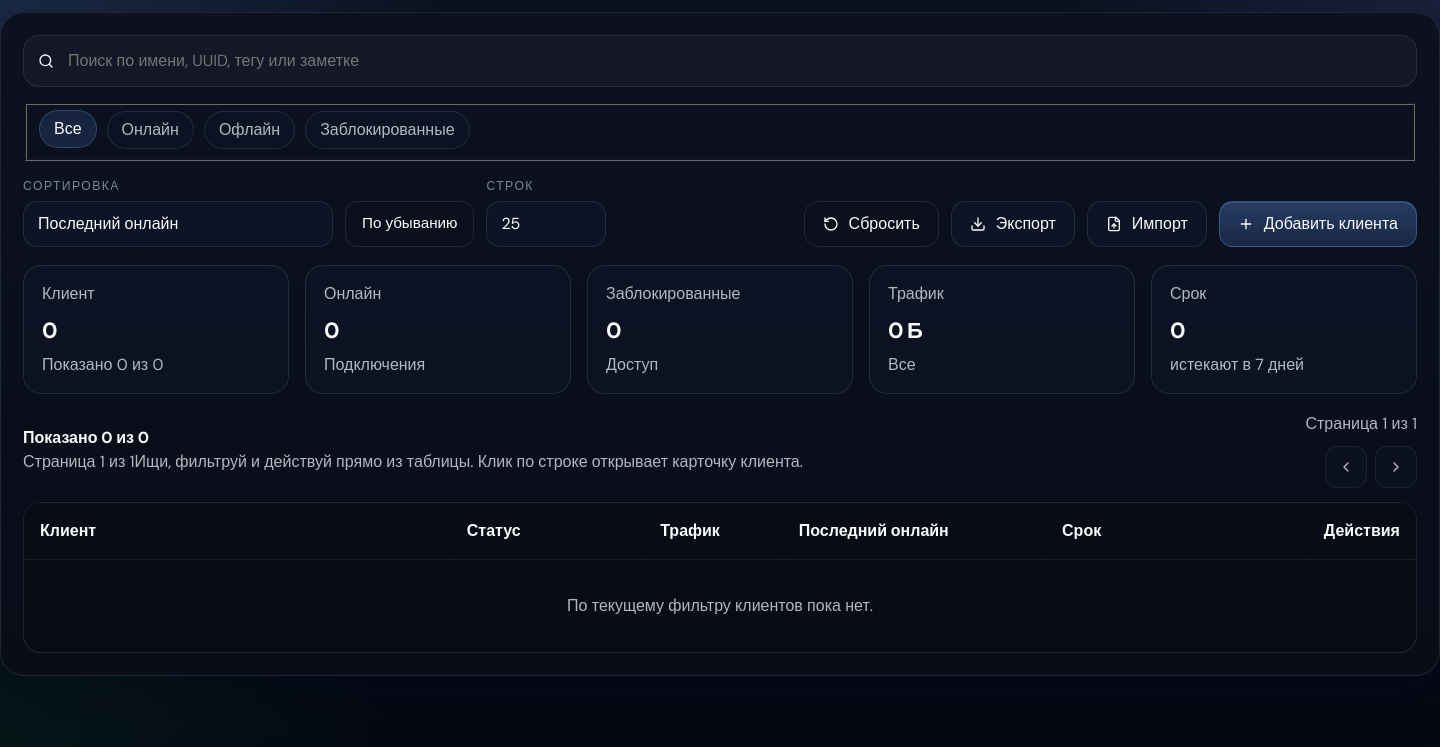
Test case: ClientsPage › sends device and IP limits when creating a client
This screenshot has width=1440, height=747.
Click the button "Добавить клиента" at (1318, 224), box left=1219, top=201, right=1417, bottom=247
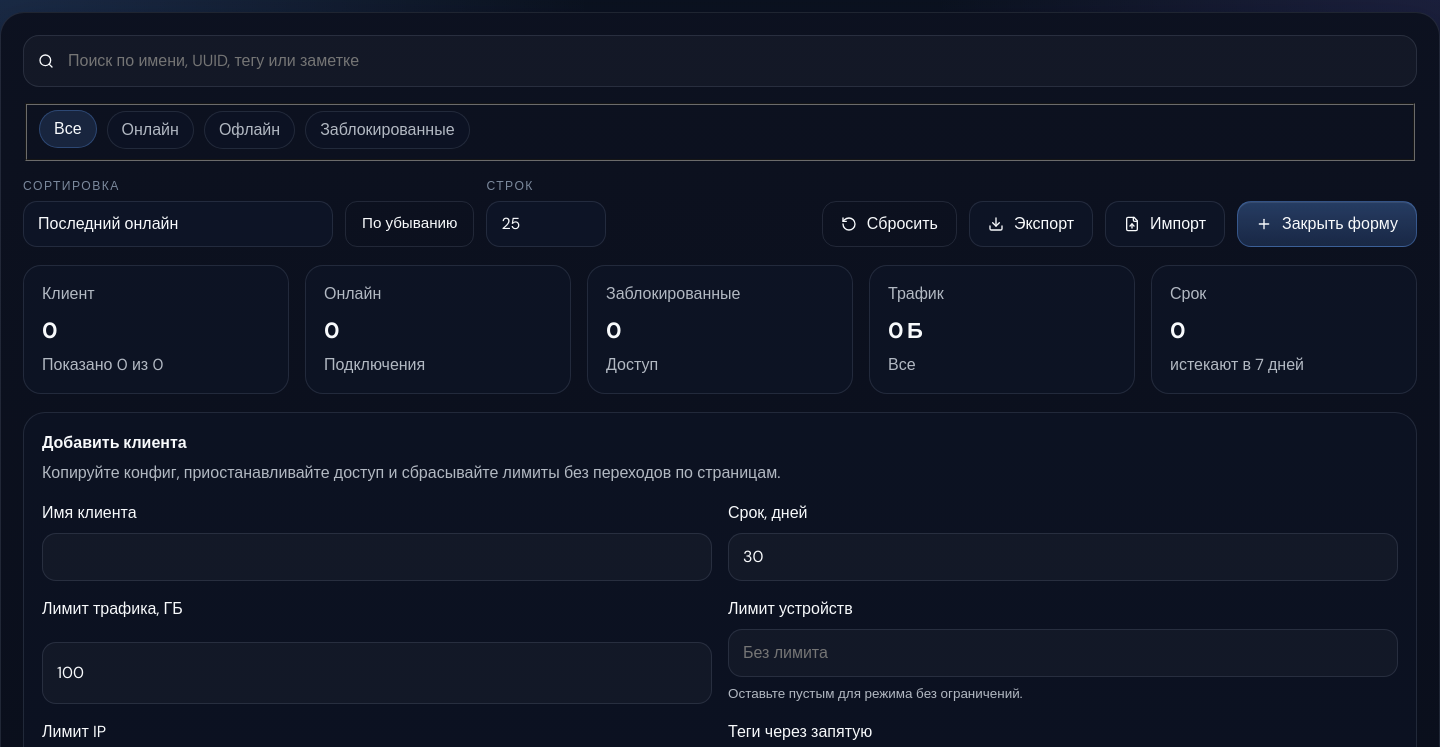
Type "Shared plan" into the field labelled "Имя клиента" at (377, 557), box left=42, top=533, right=712, bottom=581
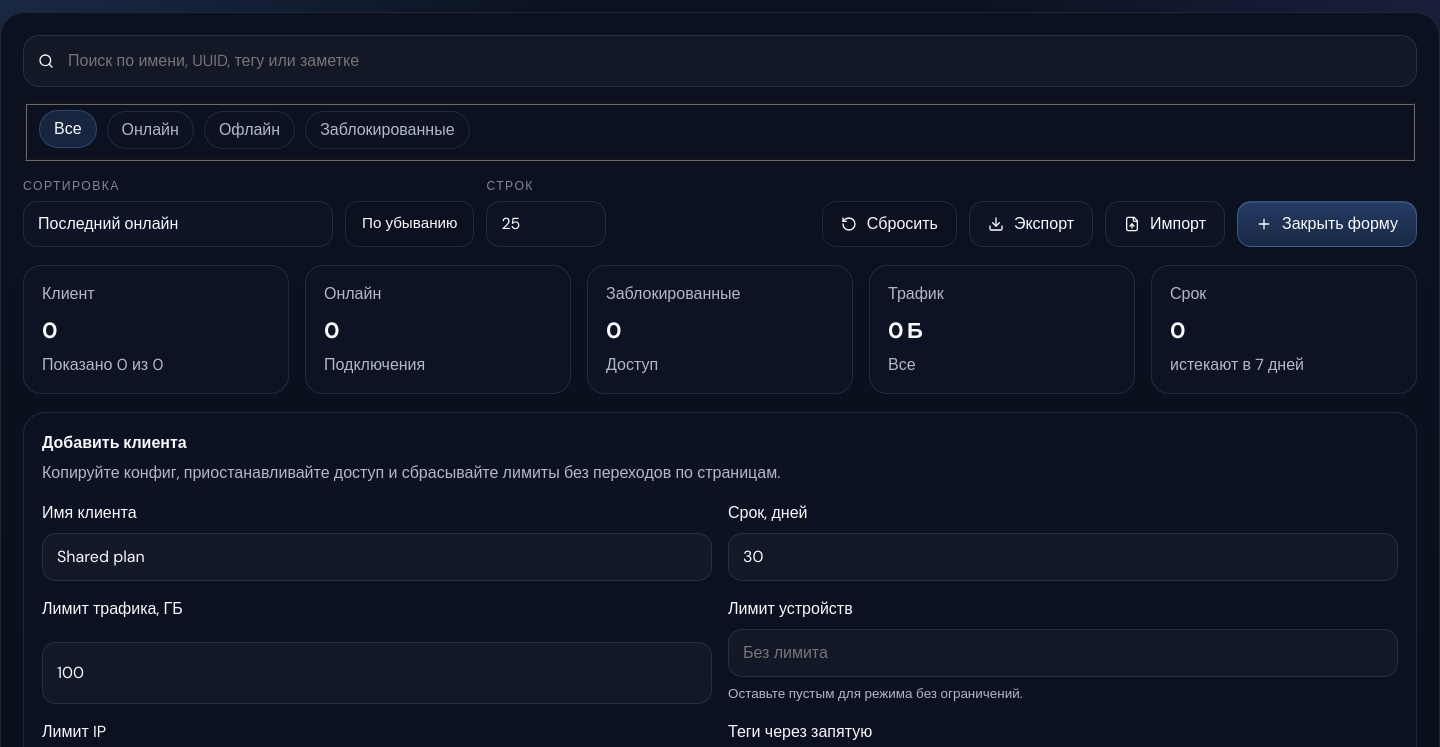
Type "3" into the number field labelled "Лимит устройств Оставьте пустым для режима без ограничений." at (1063, 653), box left=728, top=629, right=1398, bottom=677
(page scrolled)
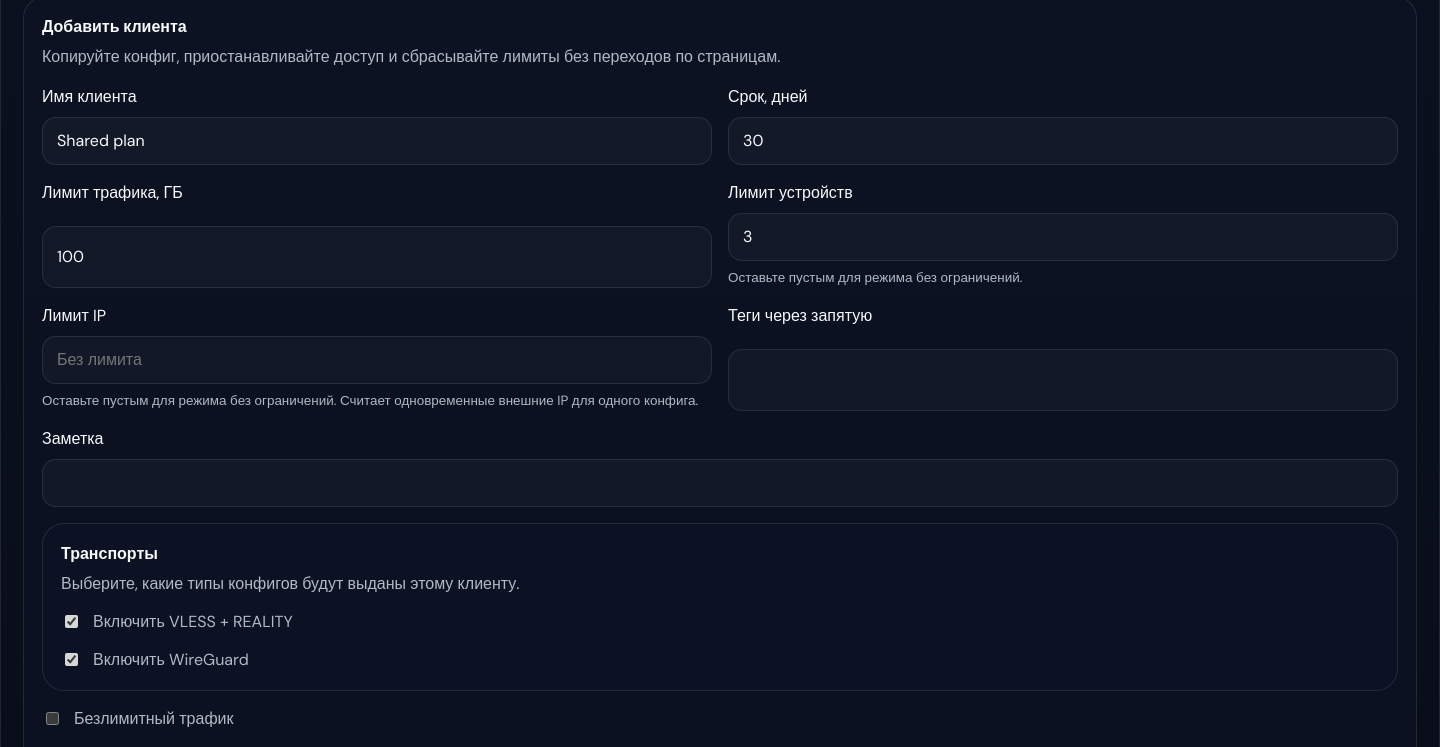
Type "2" into the 4th number field at (377, 360), box left=42, top=336, right=712, bottom=384
(page scrolled)
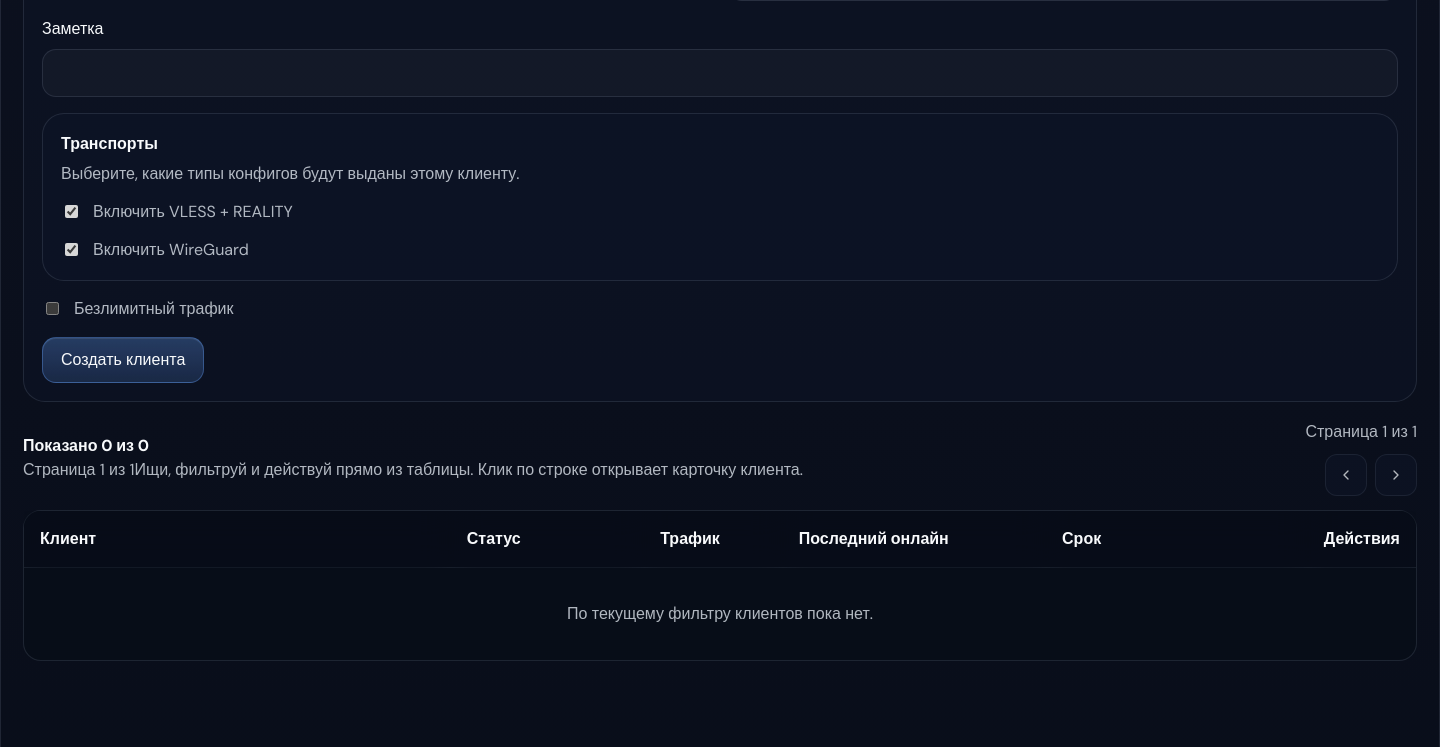
Click the button "Создать клиента" at (123, 360), box left=42, top=337, right=204, bottom=383
(page scrolled)
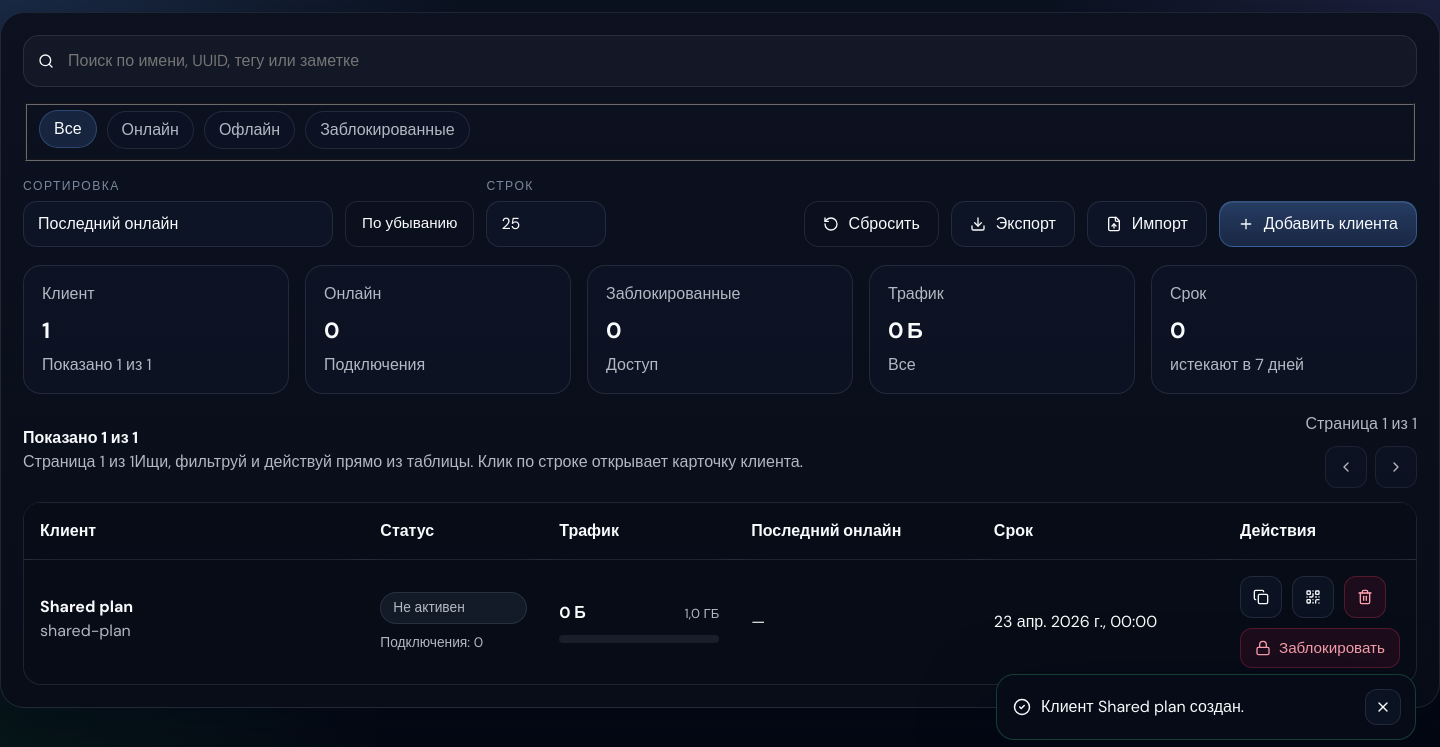
Expected: the text "Shared plan" is shown, left=40, top=596, right=133, bottom=617
